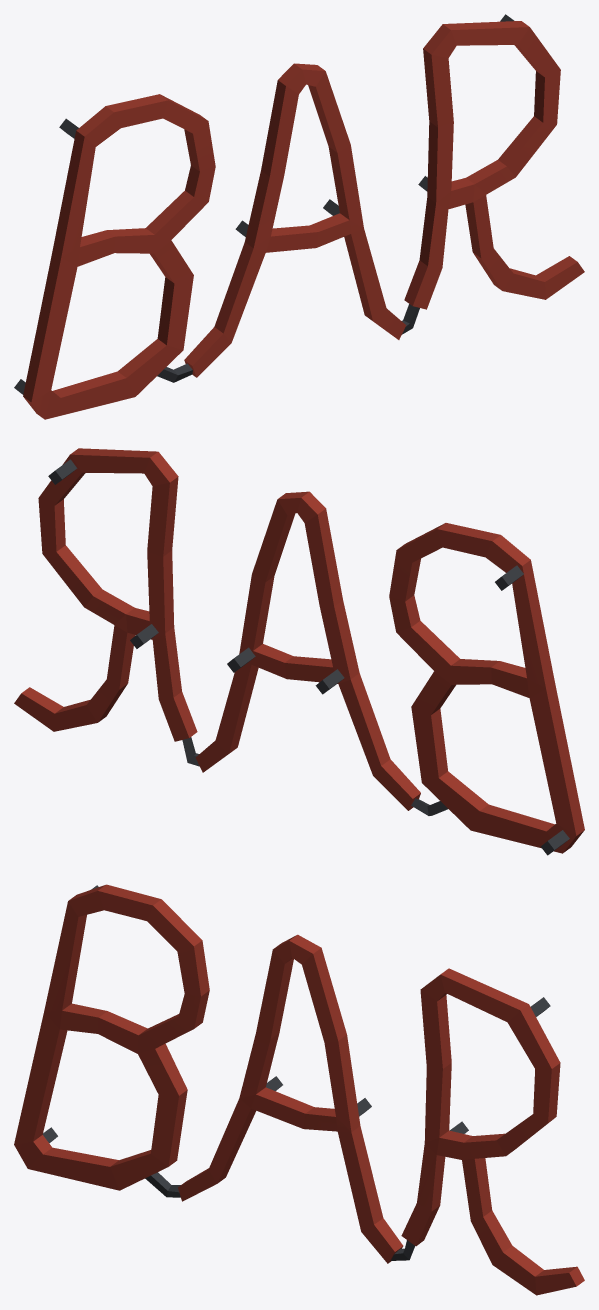
File: SM_Prop_Sign_Bar_02.obj
3 views of the same model, one above another, from view 1: azimuth 30°, elevation 25°; view 2: azimuth 150°, elevation 25°; view 3: azimuth 330°, elevation 25° (orthographic).
Visible parts, largest first — view 1: SM_Prop_Sign_Bar_02_0; view 2: SM_Prop_Sign_Bar_02_0; view 3: SM_Prop_Sign_Bar_02_0.
Part boxes in pixels (left/top/right/bottom): SM_Prop_Sign_Bar_02_0: left=14, top=14, right=584, bottom=419; SM_Prop_Sign_Bar_02_0: left=14, top=448, right=584, bottom=855; SM_Prop_Sign_Bar_02_0: left=14, top=884, right=584, bottom=1295.
Bounding box in the file's own units: 1.18 × 0.6089 × 0.0901.
Materials: 1 (1 with a texture image).
